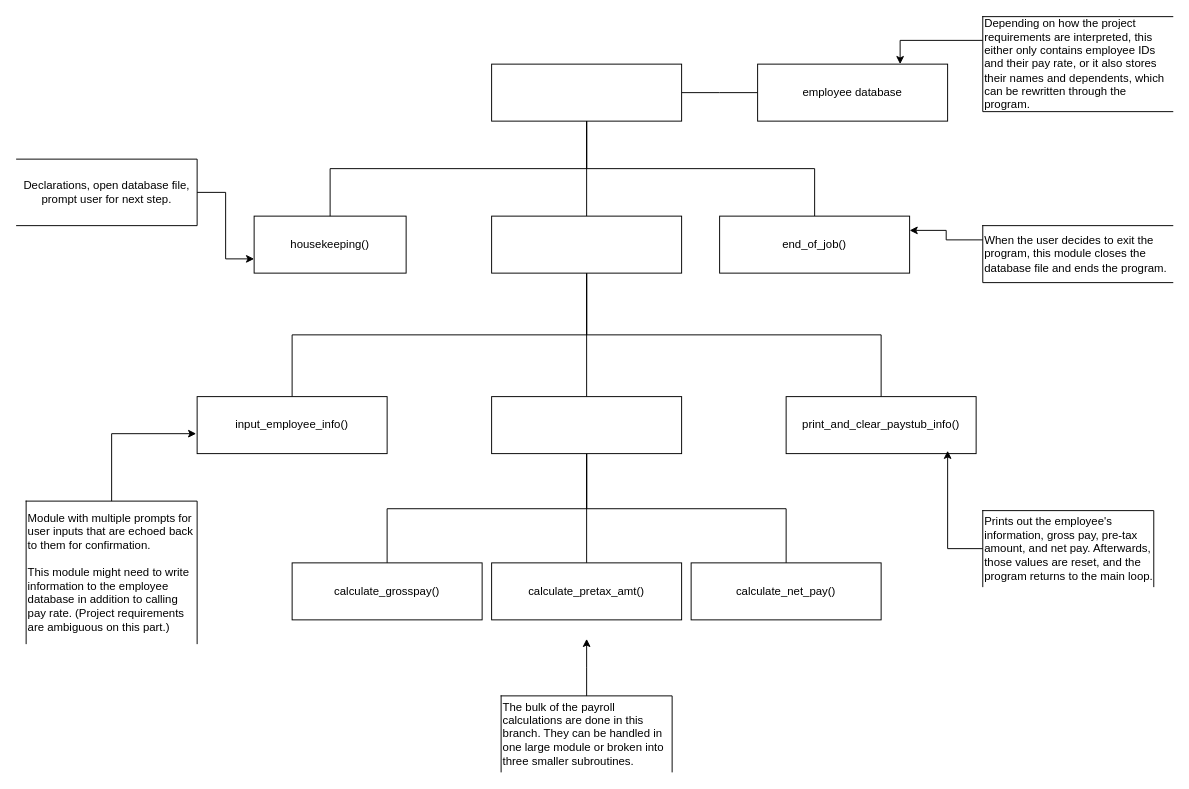
The diagram is 1189 pixels wide and 789 high, and some of its shapes have lost their labels. The shapes that lost their labels are listed below. From the top down, each one's centre as x and y in pixels, then its label:
the point at 586,92: payroll program
the point at 586,244: detail_loop()
the point at 586,425: calculate_paystub_info()
